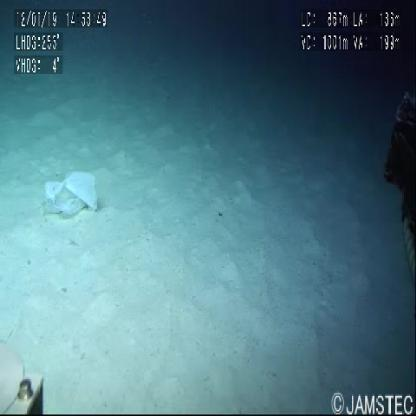Rác: (42, 171, 98, 222)
